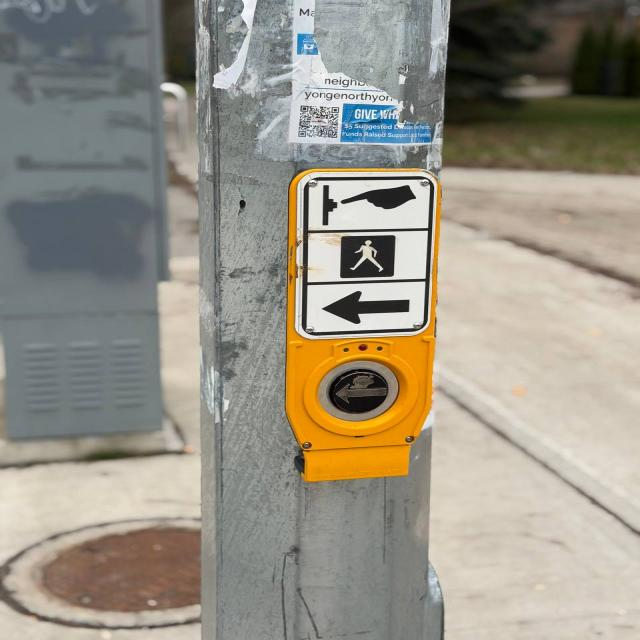Electrical Pole: (194, 0, 467, 640)
